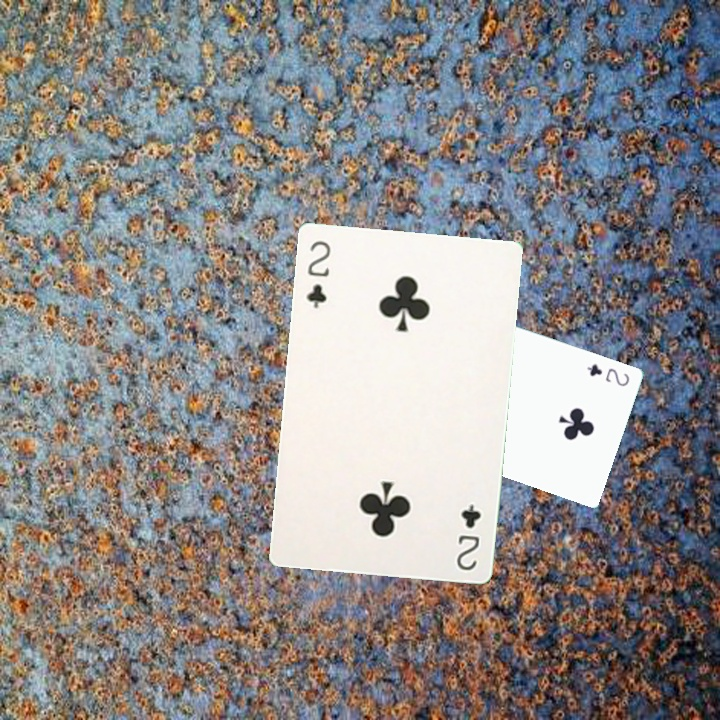2c: (452, 501, 484, 573), (302, 237, 333, 311), (583, 359, 632, 389)
